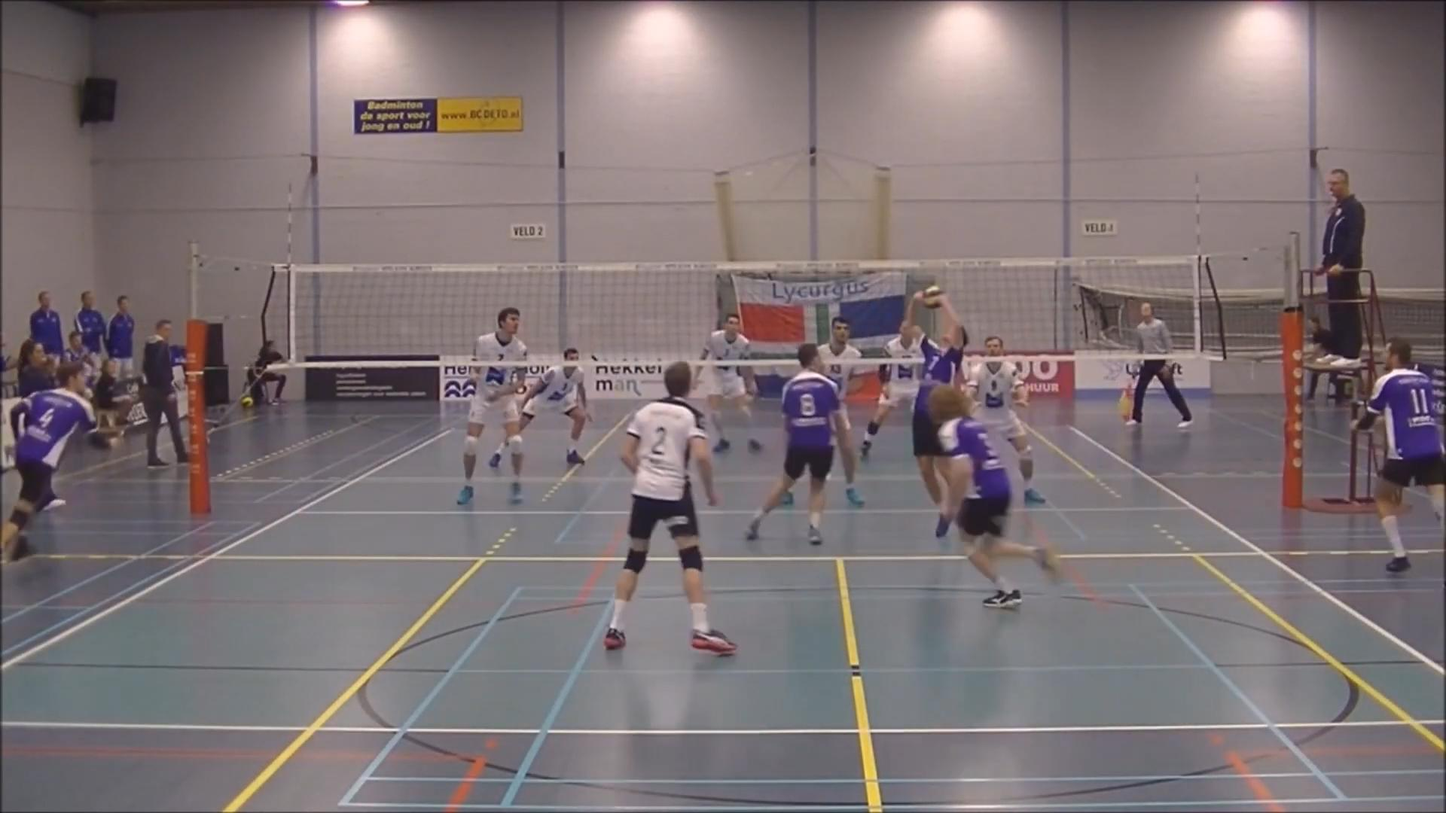alzata: (902, 285, 981, 548)
